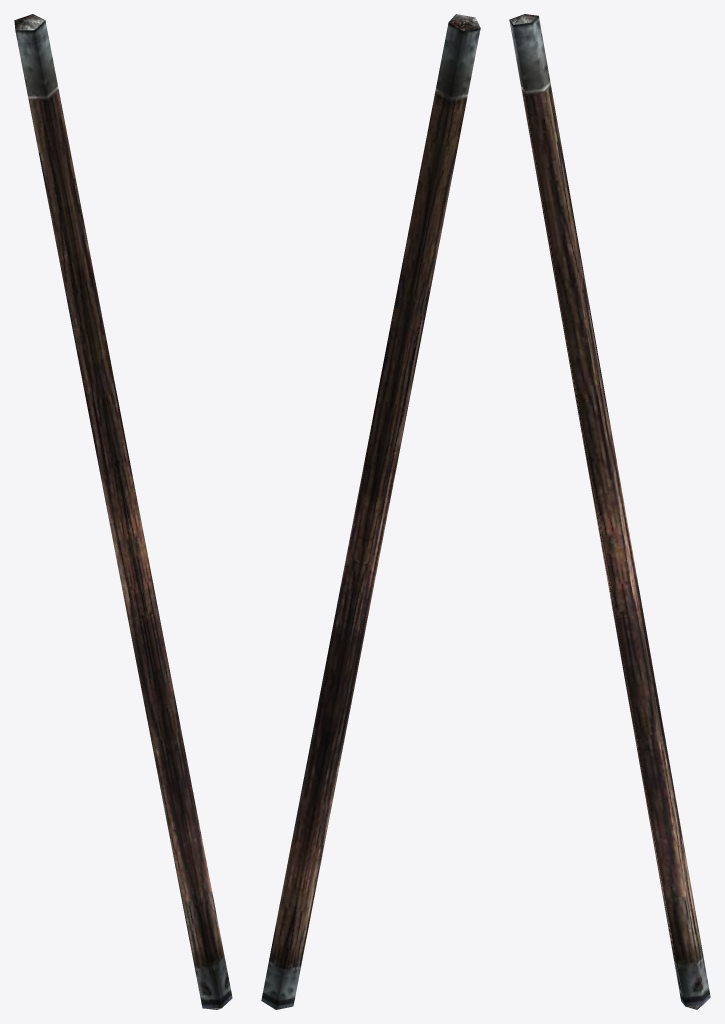
File: ITMW_020_2H_NOV_STAFF_01.glb
3 views of the same model, side by side, from view 1: azimuth 30°, elevation 25°; view 2: azimuth 150°, elevation 25°; view 3: azimuth 330°, elevation 25° (orthographic). The views are drawn at different scales.
Parts seen in each view (by area): view 1: ITMW_020_2H_NOV_STAFF_01; view 2: ITMW_020_2H_NOV_STAFF_01; view 3: ITMW_020_2H_NOV_STAFF_01.
Boxes of the visible parts, bbox=[...] form: ITMW_020_2H_NOV_STAFF_01: bbox=[14, 14, 232, 1009]; ITMW_020_2H_NOV_STAFF_01: bbox=[261, 14, 480, 1009]; ITMW_020_2H_NOV_STAFF_01: bbox=[509, 14, 710, 1009].
Bounding box in the file's own units: 0.3345 × 1.54 × 0.0437.
1 material, 1 textured.
